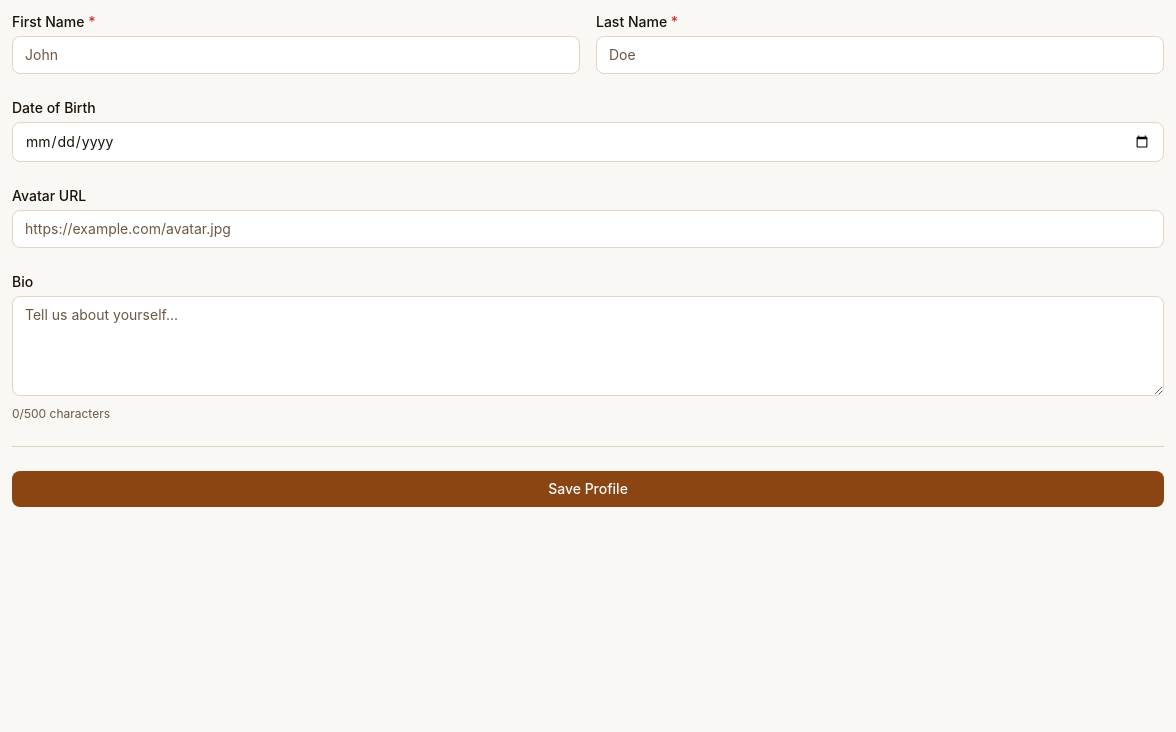
Test: ProfileForm › validates avatar URL format
Type "not-a-url" into the field with placeholder "https://example.com/avatar.jpg".
click(588, 229); type("not-a-url")  # box top-left (12, 210), bottom-right (1164, 248)
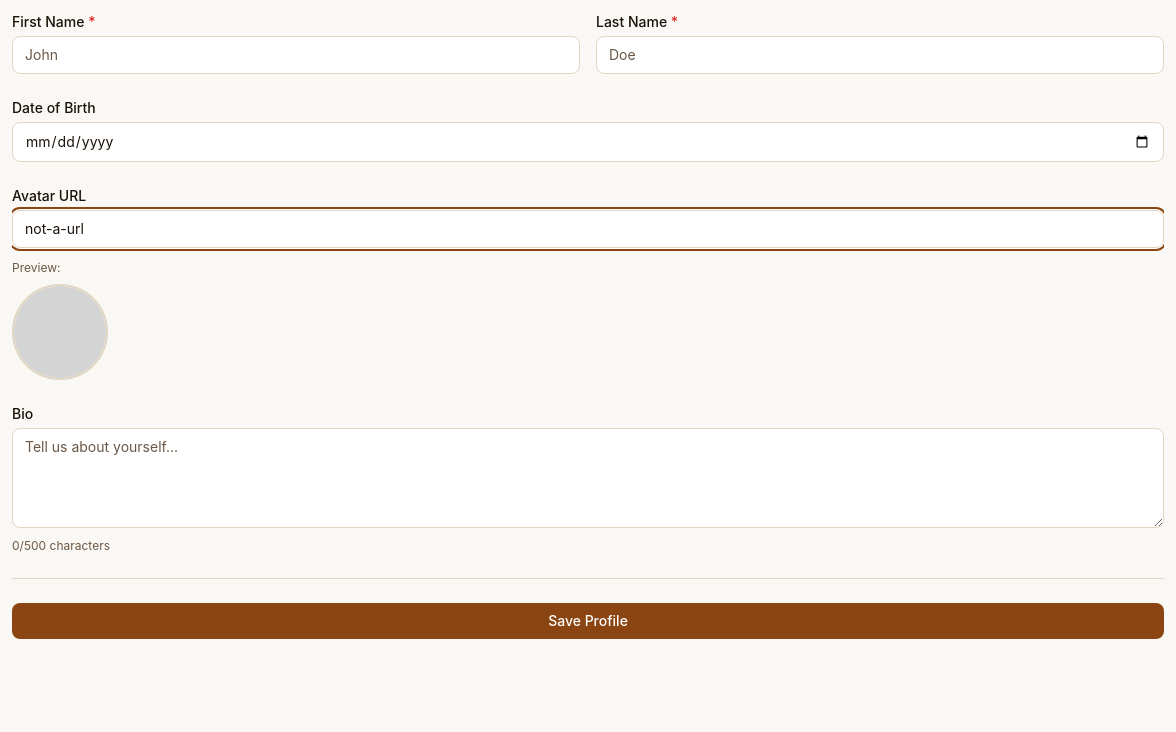
Click the button "Save Profile".
click(588, 621)  # box top-left (12, 603), bottom-right (1164, 639)
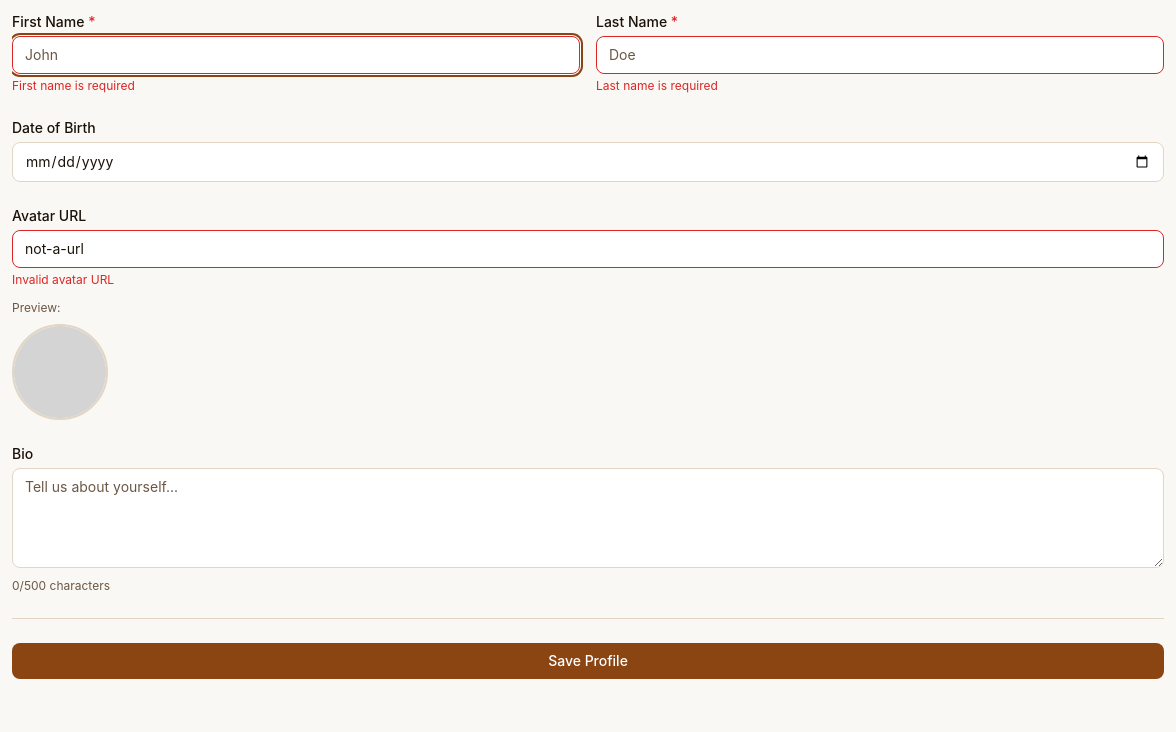
Check: the text "Invalid avatar URL" is shown, box top-left (12, 272), bottom-right (114, 287)
